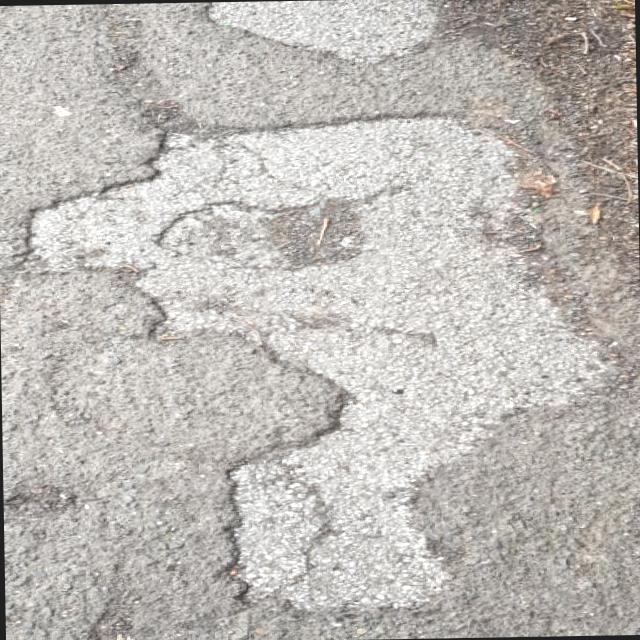pothole: (9, 102, 634, 620), (150, 187, 368, 270), (191, 0, 452, 66)
